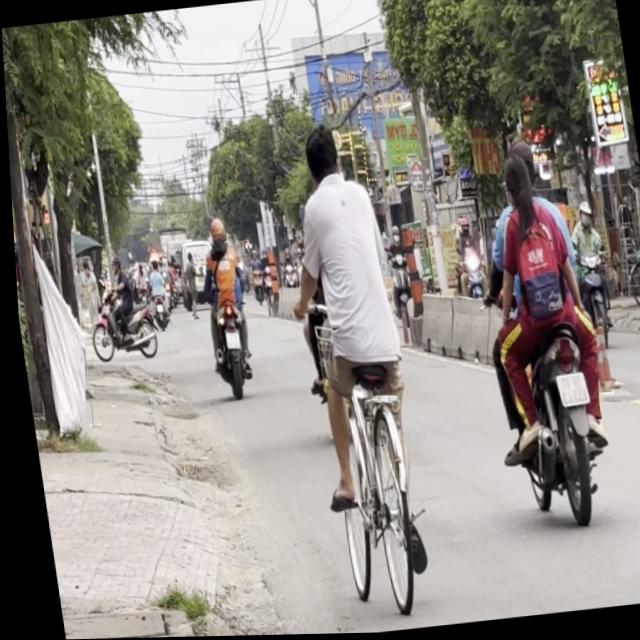licenseplate: (455, 129, 621, 533)
motorcyclist: (498, 157, 532, 212), (503, 138, 534, 179)
nohelmet: (549, 373, 584, 408)
